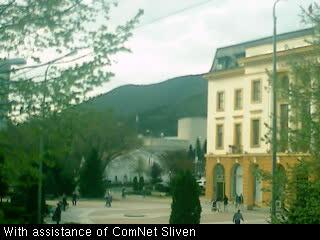person: (53, 203, 63, 223), (232, 209, 244, 225), (104, 191, 113, 207), (223, 195, 230, 212), (61, 193, 67, 211), (141, 185, 148, 200), (71, 193, 79, 206), (235, 192, 241, 208), (211, 199, 217, 213), (120, 187, 127, 199), (218, 200, 223, 213), (240, 193, 244, 206)
